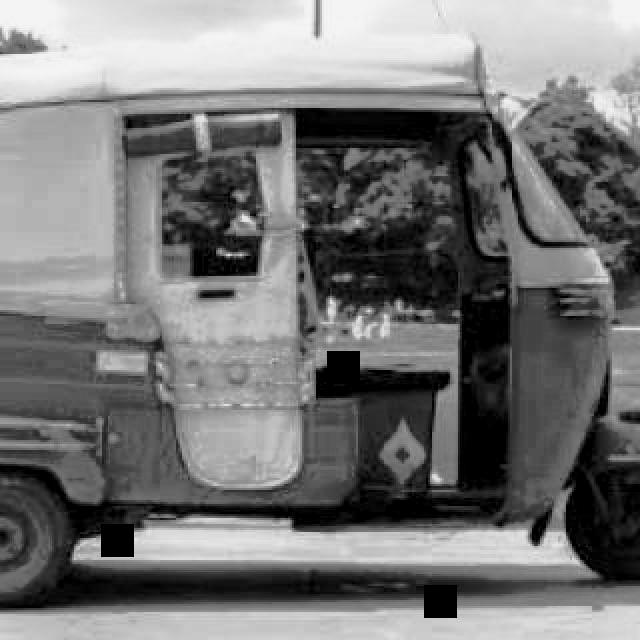Auto-Rickshaw: (2, 42, 640, 602)
